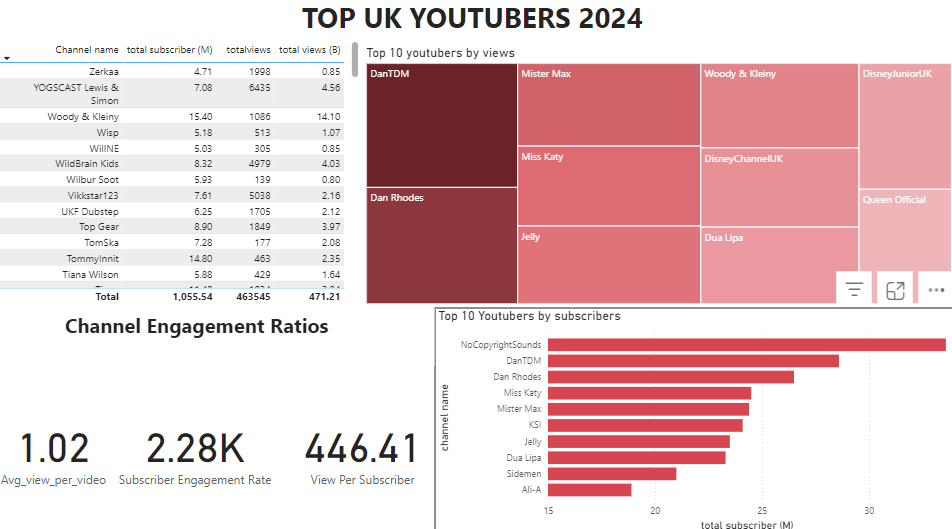

This screenshot's page, from the dashboard's own definition file:
{"tool":"powerbi","page":{"name":"Page 1","canvas":[1280,720],"ordinal":0},"visuals":[{"type":"textbox","box":[404.4,0,497,68],"z":0},{"type":"tableEx","title":"Top 10 Youtubers in UK","fields":{"Values":["public view_uk_youtube_2024.channel_name","public view_uk_youtube_2024.total_subscriber (M)","public view_uk_youtube_2024.totalviews","public view_uk_youtube_2024.total views (B)"]},"box":[0,58.6,489.5,359.1],"z":1000},{"type":"treemap","title":"Top 10 youtubers by views","fields":{"Group":["public view_uk_youtube_2024.channel_name"],"Values":["public view_uk_youtube_2024.total views (B)"]},"box":[489.5,68,789.9,349.6],"z":2000},{"type":"card","fields":{"Values":["public view_uk_youtube_2024.Avg_view_per_video"]},"box":[0,495.1,155,224.9],"z":3000},{"type":"card","fields":{"Values":["public view_uk_youtube_2024.Subscriber Engagement Rate"]},"box":[155,495.1,224.9,224.9],"z":4000},{"type":"card","fields":{"Values":["public view_uk_youtube_2024.View Per Subscriber"]},"box":[379.8,495.1,219.2,224.9],"z":5000},{"type":"clusteredBarChart","title":"Top 10 Youtubers by subscribers ","fields":{"Category":["public view_uk_youtube_2024.channel_name"],"Y":["public view_uk_youtube_2024.total_subscriber (M)"]},"box":[585.8,417.6,693.5,302.4],"z":6000},{"type":"textbox","box":[0,417.6,585.8,77.5],"z":7000}]}

Visuals, with their boxes in screenshot pixels (x1, y1, x2, y2), scaled from the page's 1280x720 canvas onto the 952x529 screenshot:
textbox: [301, 0, 670, 50]
"Top 10 Youtubers in UK" tableEx: [0, 43, 364, 307]
"Top 10 youtubers by views" treemap: [364, 50, 951, 307]
card - public view_uk_youtube_2024.Avg_view_per_video: [0, 364, 115, 528]
card - public view_uk_youtube_2024.Subscriber Engagement Rate: [115, 364, 283, 528]
card - public view_uk_youtube_2024.View Per Subscriber: [282, 364, 446, 528]
"Top 10 Youtubers by subscribers " clusteredBarChart: [436, 307, 951, 528]
textbox: [0, 307, 436, 364]
